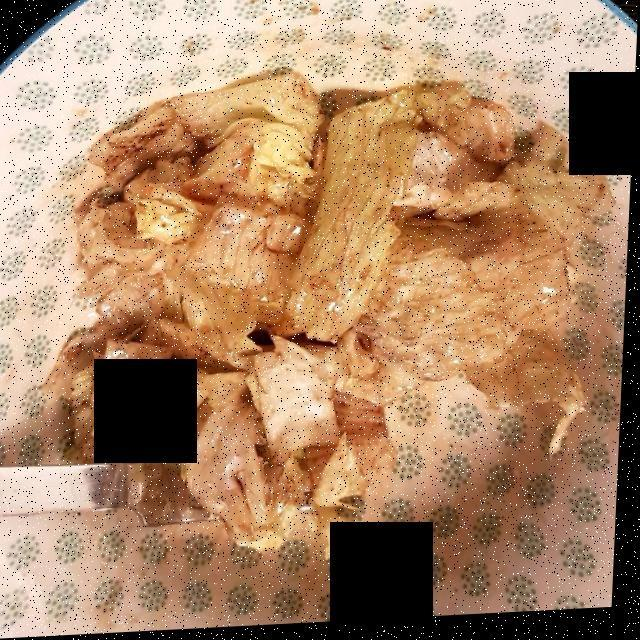salad: (64, 75, 603, 533)
